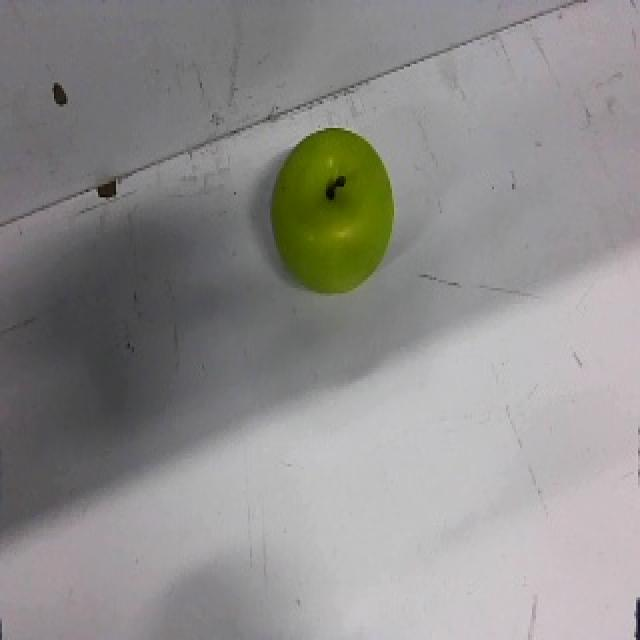apple: (270, 126, 395, 295)
